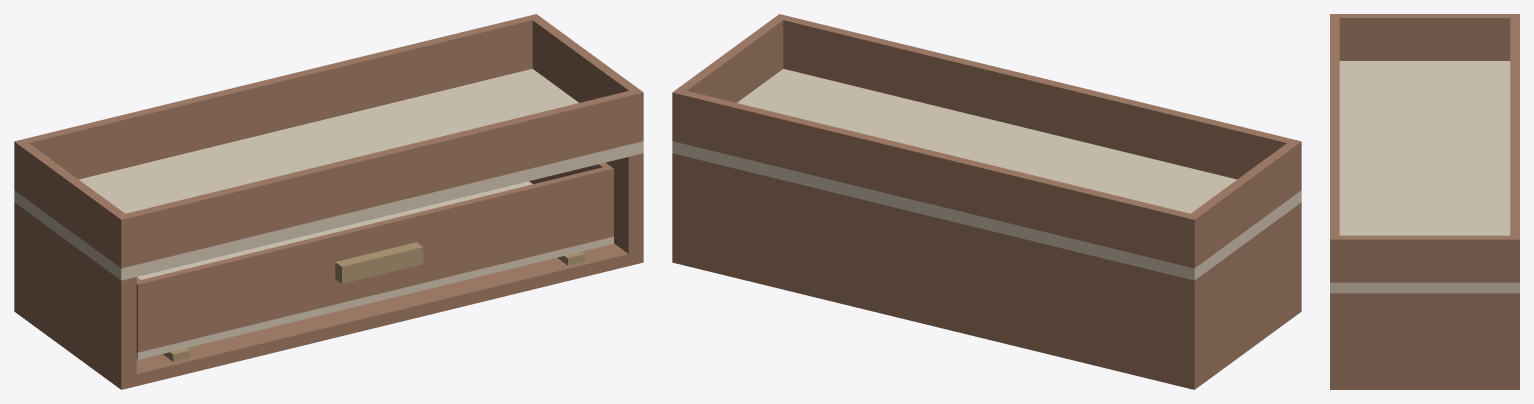
Rendered from tray-model.glb.
The picture shows the model from 3 angles, left to right: view 1: azimuth 30°, elevation 25°; view 2: azimuth 150°, elevation 25°; view 3: azimuth 270°, elevation 25°; orthographic projection. The views are drawn at different scales.
Parts seen in each view (by area): view 1: storage-drawer-front, storage-roof, storage-upper-front, storage-upper-back, storage-base, storage-side-left, storage-upper-left, storage-drawer-bottom, storage-upper-right, storage-side-right, storage-drawer-handle, storage-drawer-right (+1 smaller); view 2: storage-back, storage-roof, storage-upper-back, storage-upper-front, storage-side-left, storage-base, storage-upper-left, storage-upper-right, storage-side-right; view 3: storage-roof, storage-side-right, storage-upper-right, storage-upper-left, storage-upper-back, storage-upper-front, storage-base.
Boxes of the visible parts, x1,y1,x2,y2 form: storage-drawer-front: (141, 167, 606, 350); storage-roof: (14, 69, 643, 280); storage-upper-front: (125, 91, 634, 265); storage-upper-back: (24, 16, 532, 179); storage-base: (14, 243, 643, 389); storage-side-left: (14, 202, 136, 377); storage-upper-left: (14, 139, 130, 268); storage-drawer-bottom: (136, 181, 613, 359); storage-upper-right: (527, 14, 643, 143); storage-side-right: (606, 153, 643, 253); storage-drawer-handle: (335, 242, 423, 283); storage-drawer-right: (529, 162, 613, 237); storage-back: (687, 157, 1179, 373); storage-roof: (672, 69, 1301, 280); storage-upper-back: (681, 91, 1190, 265); storage-upper-front: (783, 16, 1291, 179); storage-side-left: (1179, 202, 1301, 377); storage-base: (672, 250, 1301, 389); storage-upper-left: (1185, 139, 1301, 268); storage-upper-right: (672, 14, 788, 143); storage-side-right: (672, 153, 687, 253); storage-roof: (1330, 61, 1519, 293); storage-side-right: (1330, 293, 1519, 379); storage-upper-right: (1330, 235, 1519, 282); storage-upper-left: (1330, 14, 1519, 60); storage-upper-back: (1510, 18, 1519, 235); storage-upper-front: (1330, 18, 1339, 235); storage-base: (1330, 379, 1519, 389).
Size of the model in its own units: 0.45 by 0.14 by 0.16.
